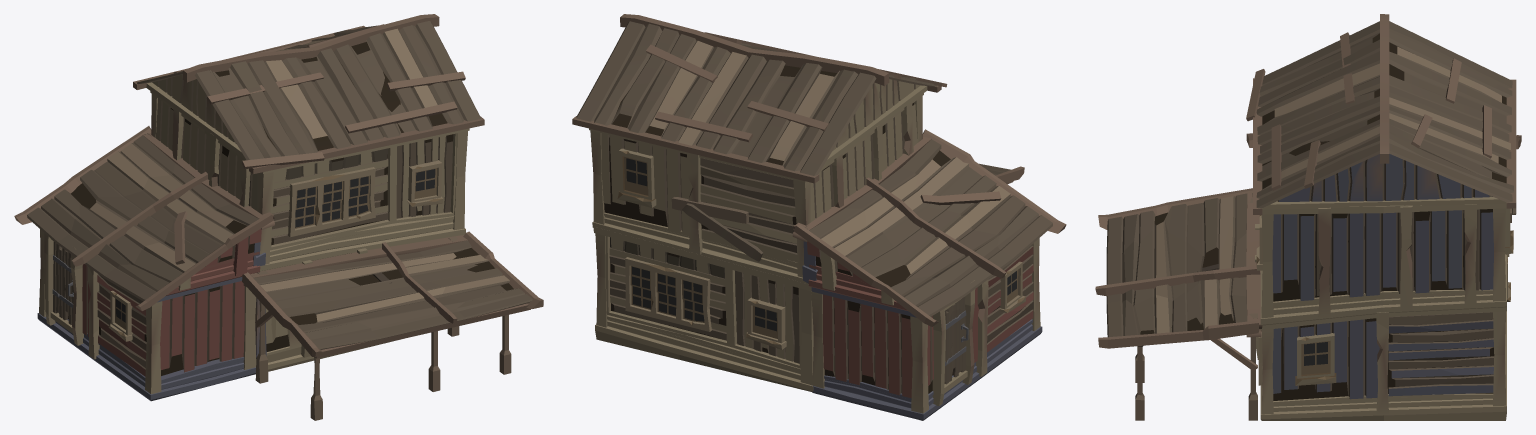
File: SM_Bld_Shanty_Preset_02.glb
3 renders of one model, left to right at view 1: azimuth 30°, elevation 25°; view 2: azimuth 150°, elevation 25°; view 3: azimuth 270°, elevation 25°, orthographic. The views are drawn at different scales.
Visible parts, largest first — view 1: SM_Bld_Shanty_Preset_02; view 2: SM_Bld_Shanty_Preset_02; view 3: SM_Bld_Shanty_Preset_02.
Part boxes in pixels (left/top/right/bottom): SM_Bld_Shanty_Preset_02: left=14, top=14, right=543, bottom=420; SM_Bld_Shanty_Preset_02: left=572, top=14, right=1066, bottom=420; SM_Bld_Shanty_Preset_02: left=1095, top=14, right=1521, bottom=420.
Bounding box in the file's own units: 0.0933 × 0.0662 × 0.0864.
